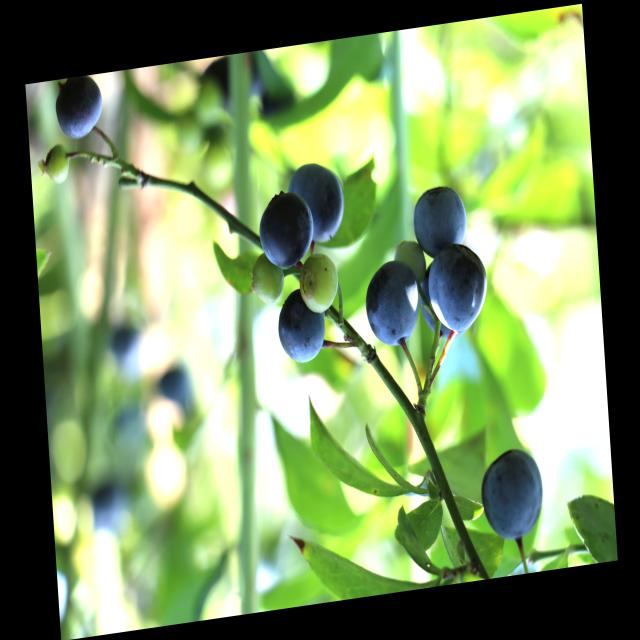blueberry: (476, 445, 546, 545), (419, 242, 491, 338), (362, 254, 421, 354), (288, 160, 348, 249), (257, 188, 317, 275), (409, 182, 472, 264), (274, 284, 328, 373), (48, 73, 107, 146)
blueberry-unripe: (298, 250, 341, 316), (247, 253, 286, 310)
